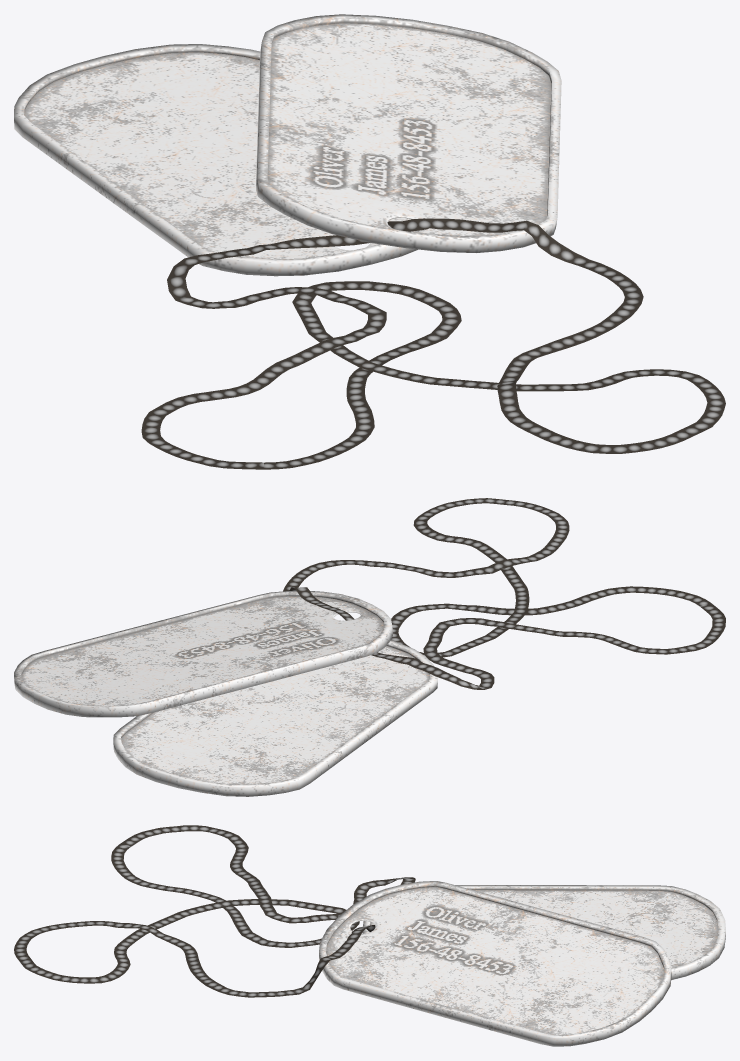
The model's file is DogTag_Item.fbx.
3 views of the same model, one above another, from view 1: azimuth 30°, elevation 25°; view 2: azimuth 150°, elevation 25°; view 3: azimuth 270°, elevation 25° (orthographic). The views are drawn at different scales.
Parts seen in each view (by area): view 1: Dog_Tag_Item_LOD0; view 2: Dog_Tag_Item_LOD0; view 3: Dog_Tag_Item_LOD0.
Part boxes in pixels (x1,y1,x2,y2): Dog_Tag_Item_LOD0: [14, 14, 725, 469]; Dog_Tag_Item_LOD0: [14, 498, 725, 796]; Dog_Tag_Item_LOD0: [14, 825, 725, 1046].
Size of what is drawn, in the model's own units: 6.51 by 0.5526 by 8.79.
1 material, 1 textured.
